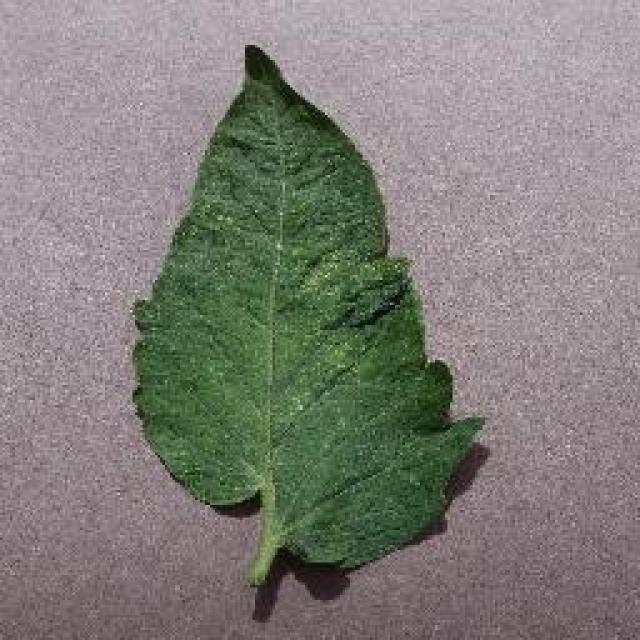Tomato spider mites leaf: (134, 48, 488, 565)
